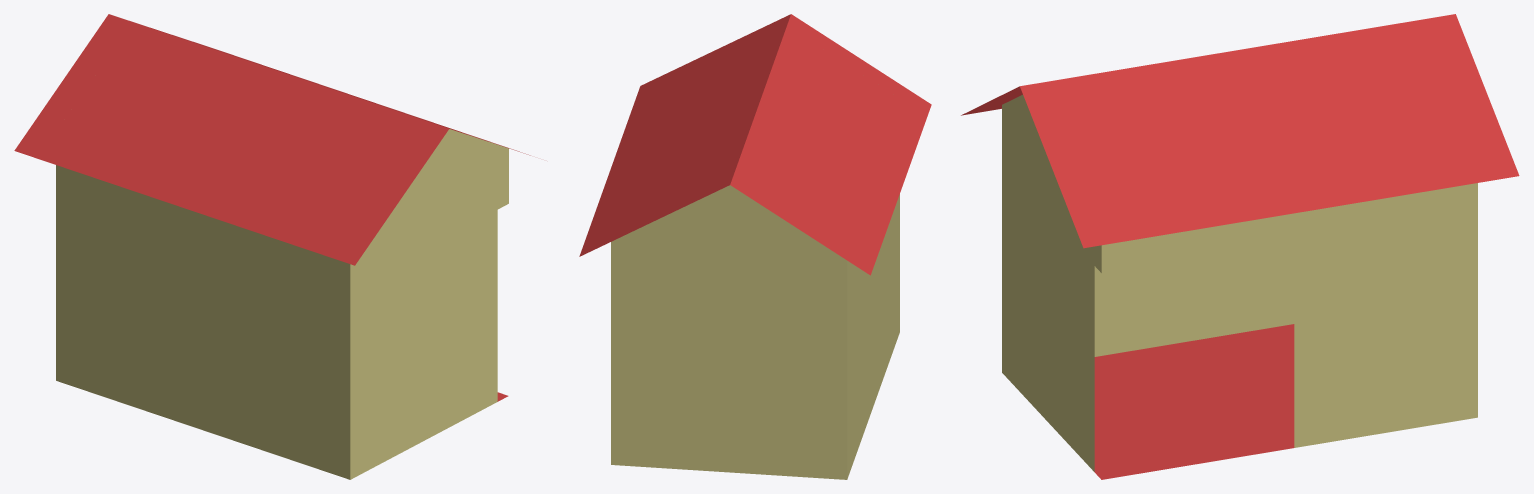
3 renders of one model, left to right at view 1: azimuth 30°, elevation 25°; view 2: azimuth 150°, elevation 25°; view 3: azimuth 270°, elevation 25°, orthographic. The views are drawn at different scales.
Size of the model in its own units: 15.17 by 17.49 by 11.83.
